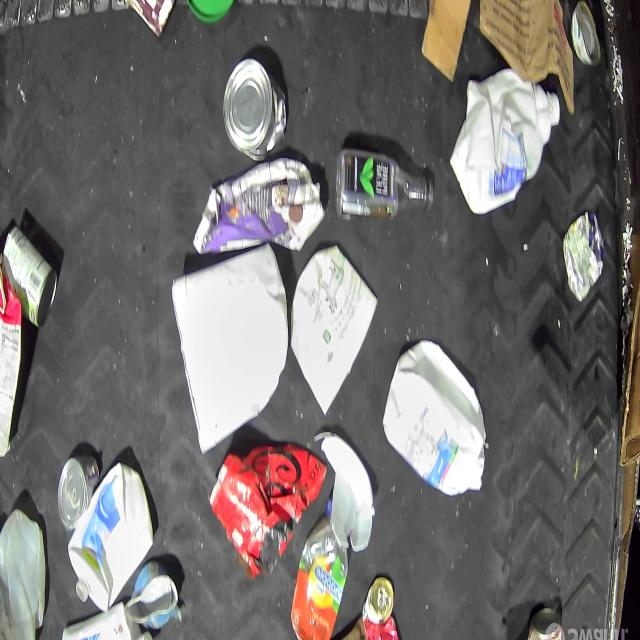can: (224, 54, 288, 160), (3, 222, 56, 322), (563, 208, 605, 304), (126, 558, 180, 632), (56, 452, 100, 530), (362, 575, 401, 640), (571, 0, 601, 69), (524, 615, 564, 640)
milk_jug: (384, 342, 486, 498), (453, 66, 561, 212), (0, 513, 48, 640)
non_white_jug: (68, 461, 156, 609), (192, 158, 324, 254), (0, 245, 23, 459)
plastic_bottle: (290, 501, 348, 640), (337, 147, 432, 221)
